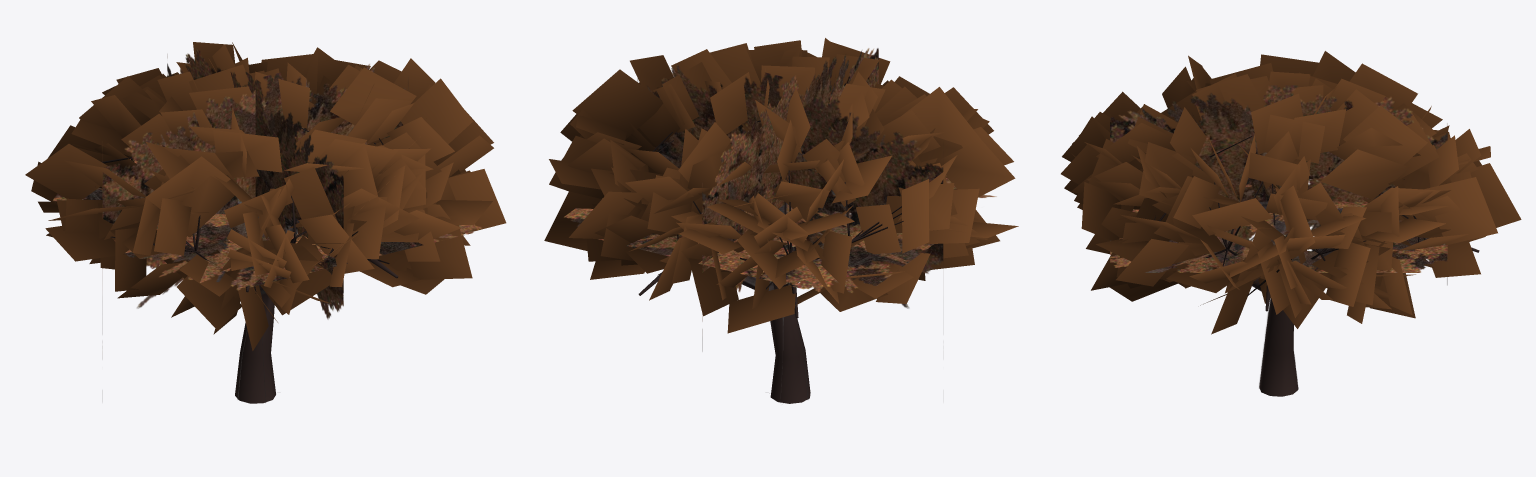
The model's file is veg.tree.sakura.mo.glb.
The picture shows the model from 3 angles, left to right: view 1: azimuth 30°, elevation 25°; view 2: azimuth 150°, elevation 25°; view 3: azimuth 270°, elevation 25°; orthographic projection. The views are drawn at different scales.
Parts seen in each view (by area): view 1: LOD0, IMP; view 2: LOD0, IMP; view 3: LOD0, IMP.
Part boxes in pixels (x1=…): LOD0: x1=25, y1=42, x2=506, y2=403; IMP: x1=52, y1=47, x2=481, y2=402; LOD0: x1=544, y1=38, x2=1018, y2=403; IMP: x1=564, y1=48, x2=996, y2=402; LOD0: x1=1061, y1=51, x2=1521, y2=396; IMP: x1=1110, y1=85, x2=1447, y2=388.
Size of what is drawn, in the model's own units: 10.51 by 7.5 by 10.24.
3 materials, 1 textured.
